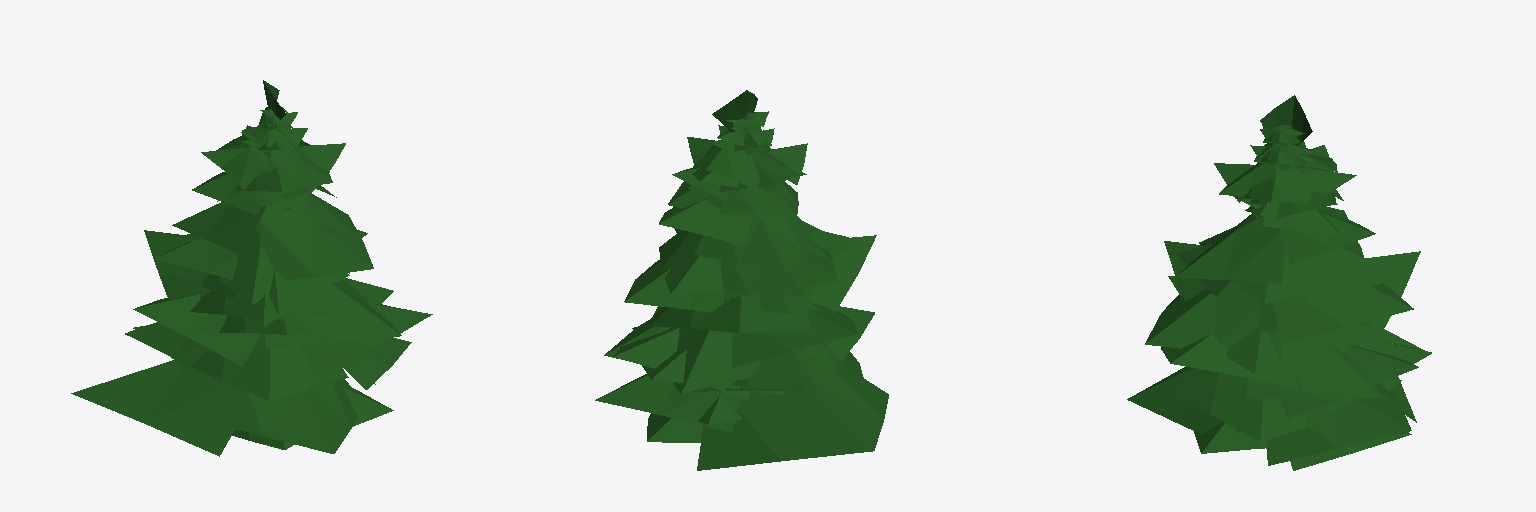
Rendered from Pinheiro.obj.
The picture shows the model from 3 angles: view 1: azimuth 30°, elevation 25°; view 2: azimuth 150°, elevation 25°; view 3: azimuth 270°, elevation 25°; orthographic projection.
Visible parts, largest first — view 1: tree_pine_joined; view 2: tree_pine_joined; view 3: tree_pine_joined.
Part boxes in pixels (x1,y1,x2,y2): tree_pine_joined: (71, 80, 432, 456); tree_pine_joined: (595, 90, 888, 470); tree_pine_joined: (1127, 95, 1431, 470).
Size of the model in its own units: 4.39 by 4.83 by 4.